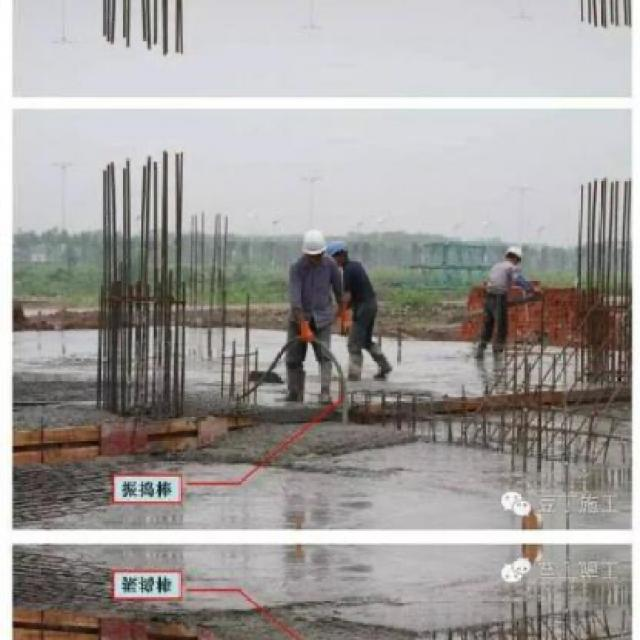helmet: (302, 226, 328, 262), (328, 235, 349, 268), (504, 242, 524, 266)
